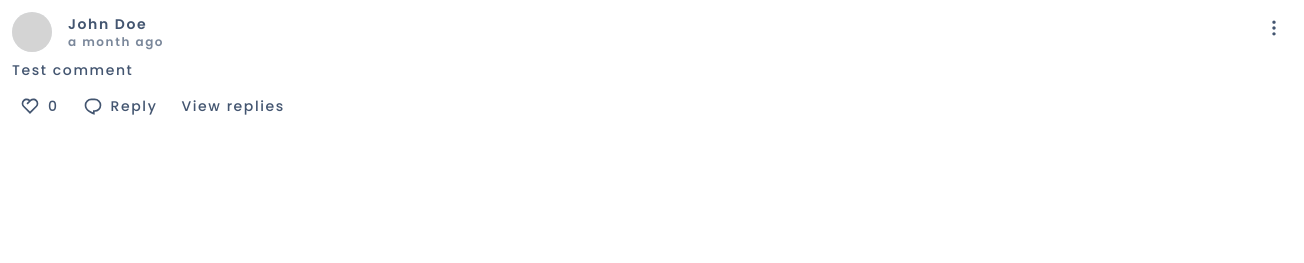
Test case: CommentItem › should open the reply input when the reply button is clicked
Step 1. Click the button with test id "reply-button" → (120,106), box [75,88,165,124]
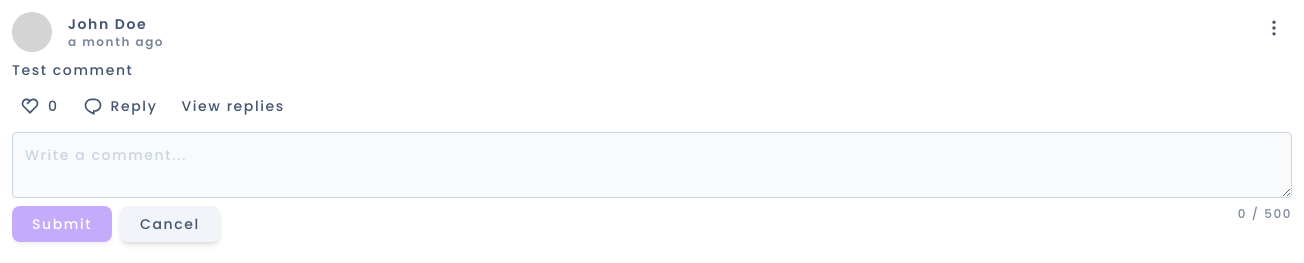
Check: the text box with placeholder "Write a comment..." is shown, box [12,132,1292,198]
